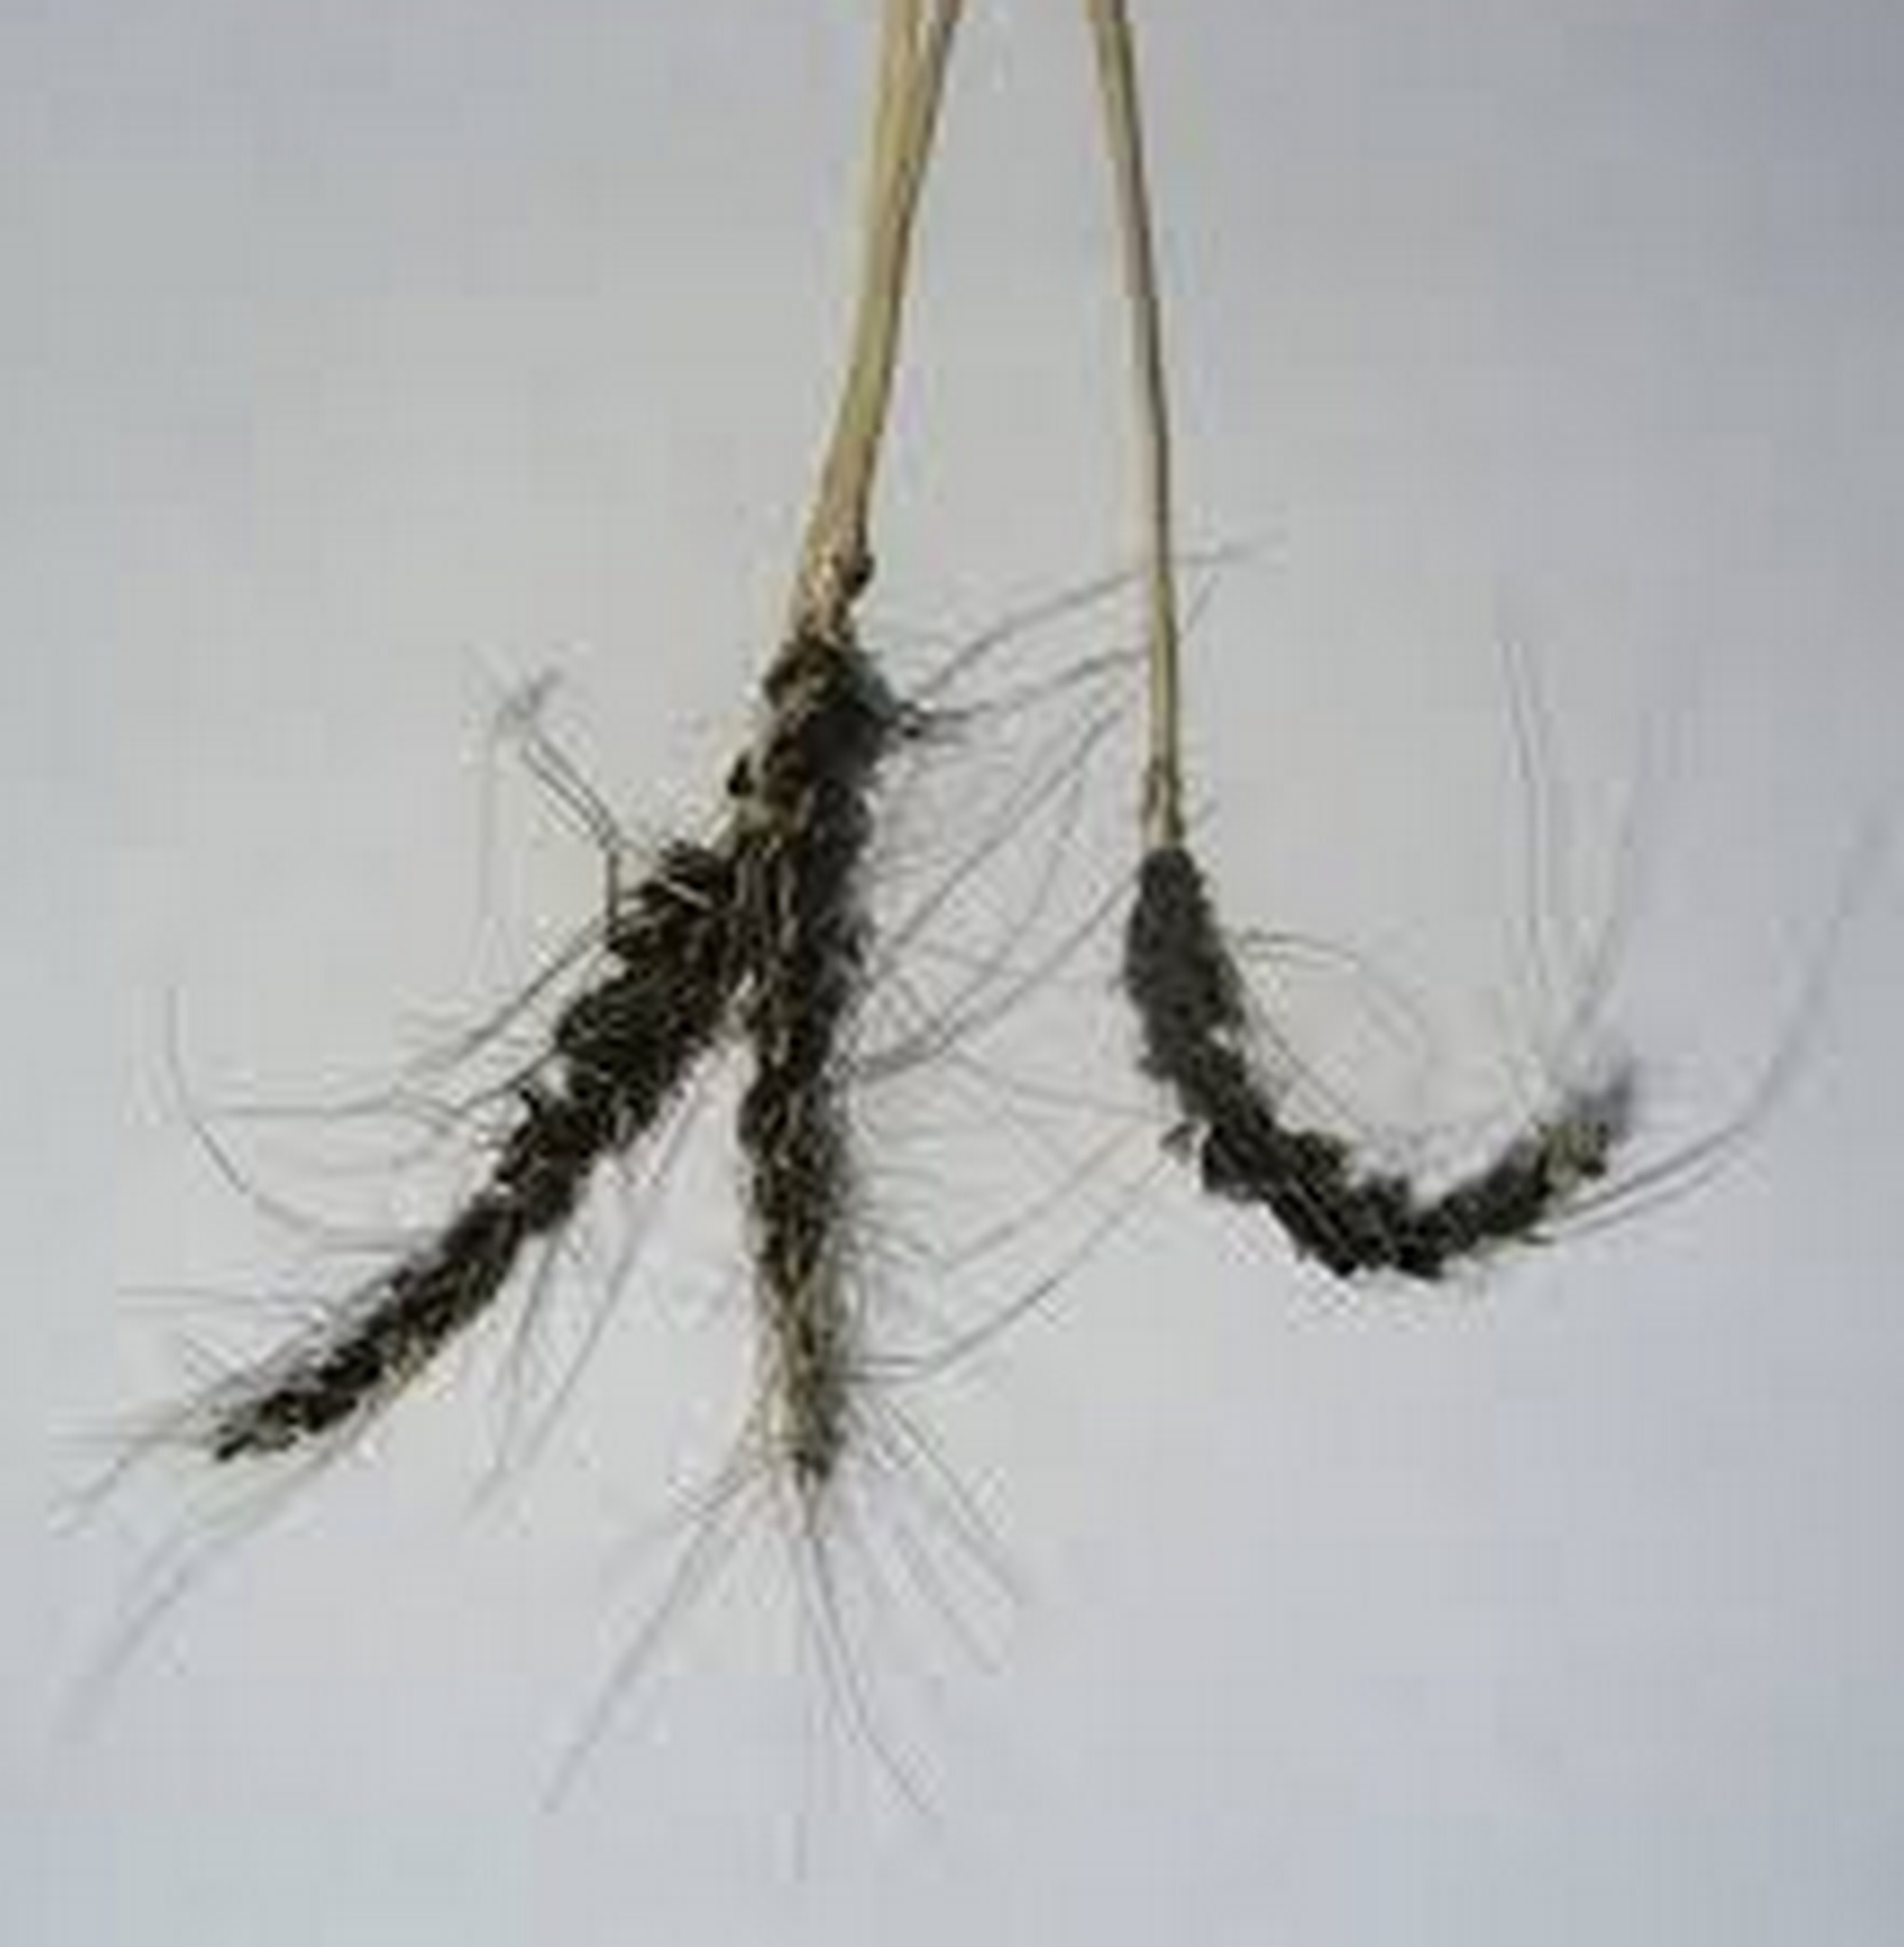Wheat Loose Smut: (129, 628, 1695, 1614)
